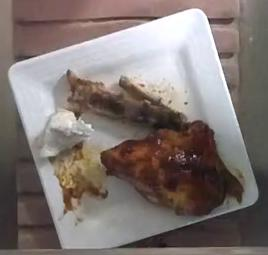chicken: (101, 120, 243, 215)
